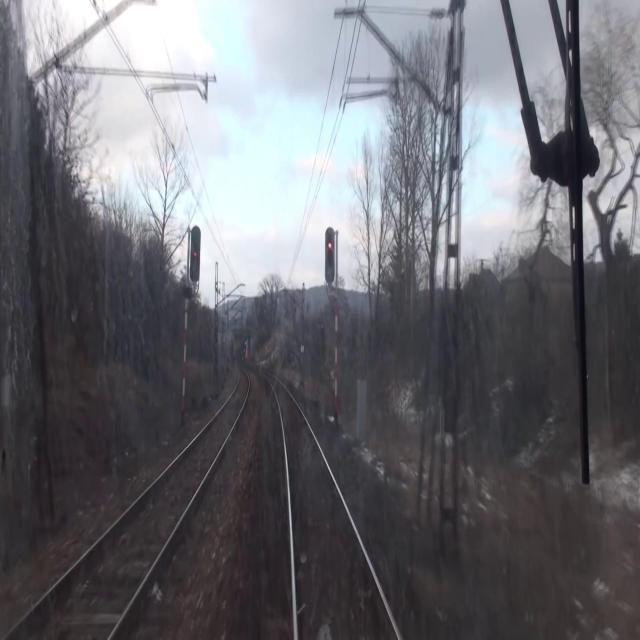rail-track: (7, 370, 247, 639), (270, 377, 397, 639)
